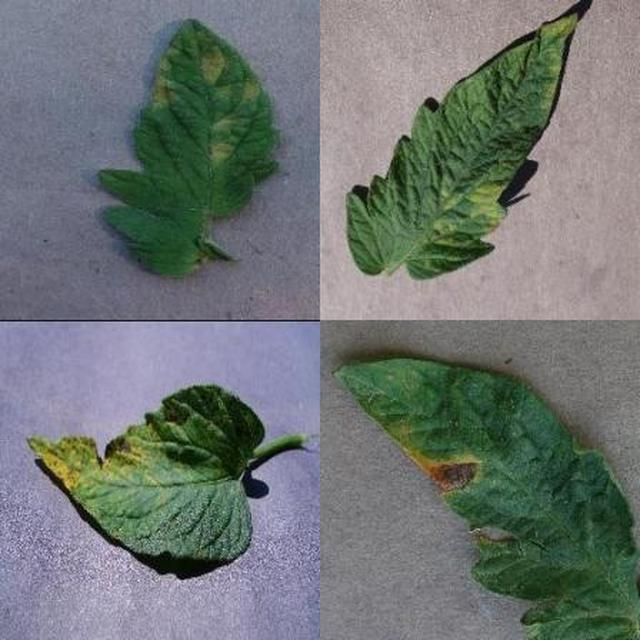Leaf Mold: (209, 209, 640, 640)
